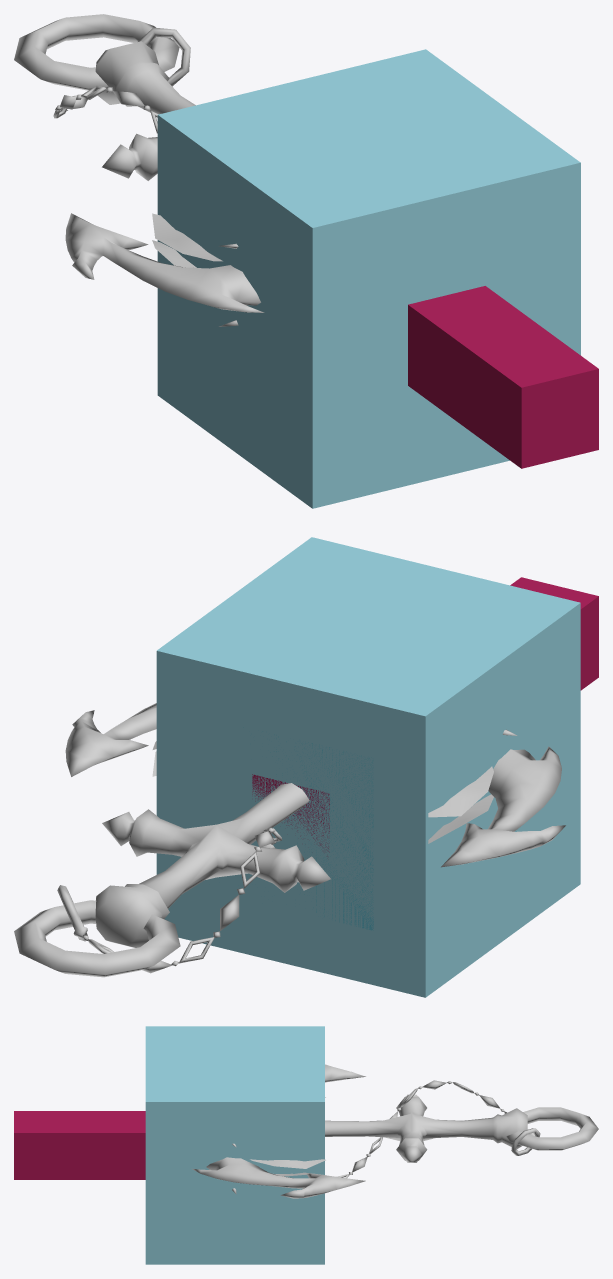
Rendered from w0113_nifskope.obj.
The picture shows the model from 3 angles, top to bottom: view 1: azimuth 30°, elevation 25°; view 2: azimuth 150°, elevation 25°; view 3: azimuth 270°, elevation 25°; orthographic projection. The views are drawn at different scales.
Visible parts, largest first — view 1: Box, Box03, W0113; view 2: Box, W0113, Box03; view 3: Box, W0113, Box03.
Boxes of the visible parts, x1=… form: Box: x1=157, y1=49, x2=580, y2=508; Box03: x1=408, y1=286, x2=598, y2=468; W0113: x1=14, y1=14, x2=264, y2=326; Box: x1=156, y1=537, x2=580, y2=997; W0113: x1=14, y1=703, x2=565, y2=977; Box03: x1=252, y1=577, x2=598, y2=856; Box: x1=145, y1=1026, x2=324, y2=1264; W0113: x1=192, y1=1064, x2=598, y2=1198; Box03: x1=14, y1=1111, x2=145, y2=1179.
Size of the model in its own units: 1.22 by 0.6924 by 2.26.
